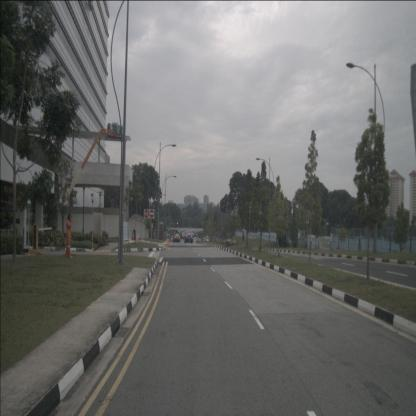cone: (165, 238, 169, 248), (136, 234, 138, 243), (130, 233, 132, 240)
